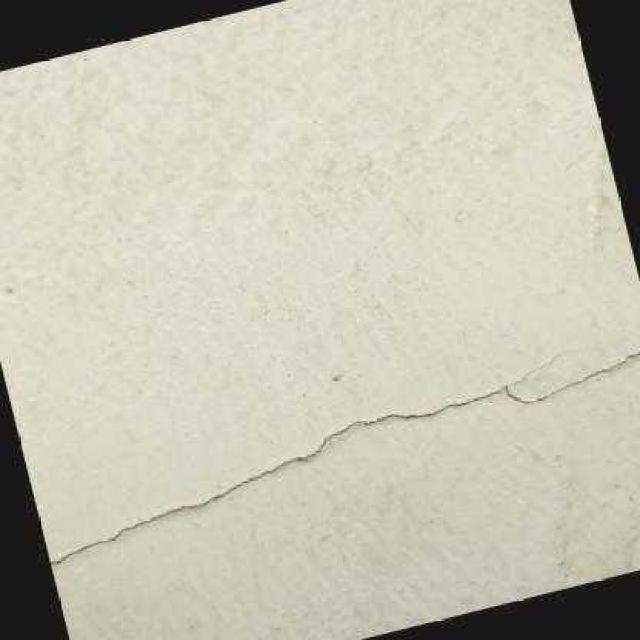D00: (49, 345, 640, 569)
